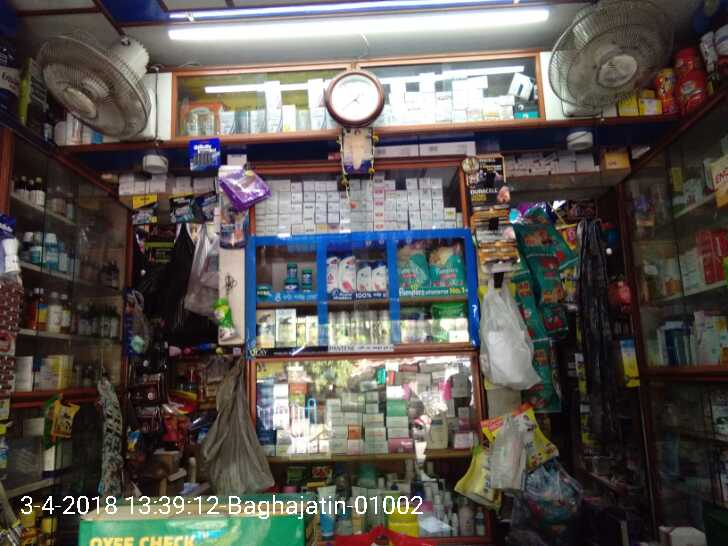vicks: (286, 262, 299, 280), (286, 280, 299, 291), (302, 270, 311, 285), (302, 285, 312, 292)
